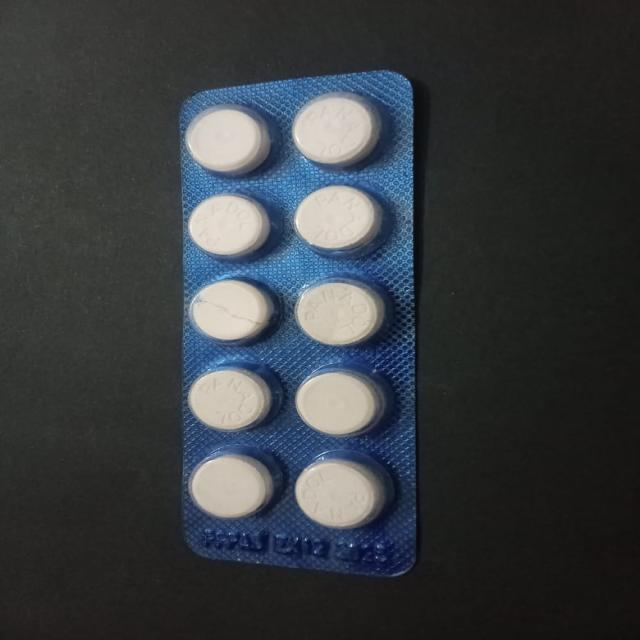defect: (188, 277, 282, 344)
